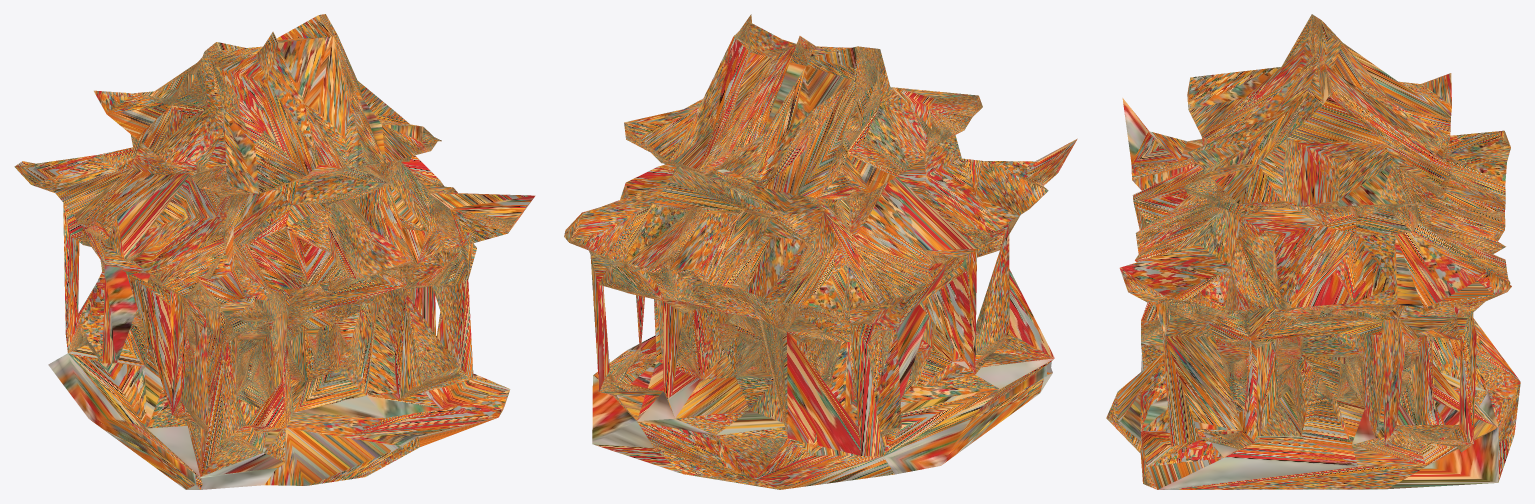
The model's file is lib_pavilion2.far.glb.
The picture shows the model from 3 angles, left to right: view 1: azimuth 30°, elevation 25°; view 2: azimuth 150°, elevation 25°; view 3: azimuth 270°, elevation 25°; orthographic projection. The views are drawn at different scales.
Parts seen in each view (by area): view 1: output_unwrapped; view 2: output_unwrapped; view 3: output_unwrapped.
Part boxes in pixels (bbox=[...]): output_unwrapped: bbox=[14, 14, 535, 489]; output_unwrapped: bbox=[564, 14, 1077, 489]; output_unwrapped: bbox=[1106, 14, 1520, 489].
Size of the model in its own units: 1.78 by 1.87 by 1.85.
Materials: 1 (1 with a texture image).
